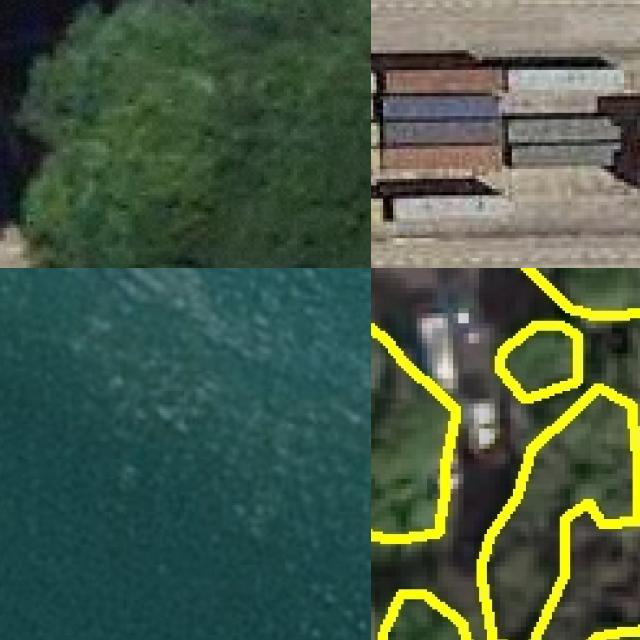trees: (28, 1, 372, 269), (480, 387, 639, 640), (372, 327, 457, 540), (498, 324, 579, 400), (381, 593, 470, 640), (589, 628, 640, 640)
